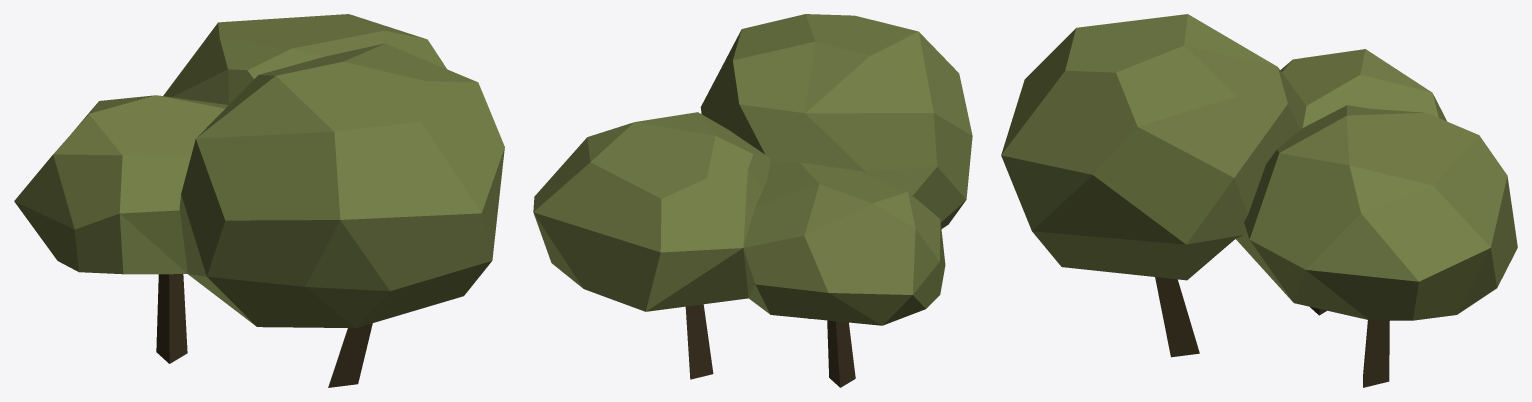
Rendered from BushLowPoly1.fbx.
3 views of the same model, side by side, from view 1: azimuth 30°, elevation 25°; view 2: azimuth 150°, elevation 25°; view 3: azimuth 270°, elevation 25° (orthographic). The views are drawn at different scales.
Visible parts, largest first — view 1: BushLowPoly1; view 2: BushLowPoly1; view 3: BushLowPoly1.
Part boxes in pixels (x1,y1,x2,y2): BushLowPoly1: [14, 14, 504, 387]; BushLowPoly1: [533, 14, 972, 387]; BushLowPoly1: [1001, 14, 1517, 387].
Bounding box in the file's own units: 43.61 × 31.92 × 47.09.
